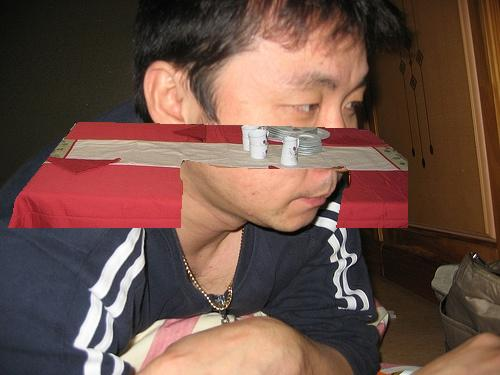tampered: (9, 123, 408, 228)
